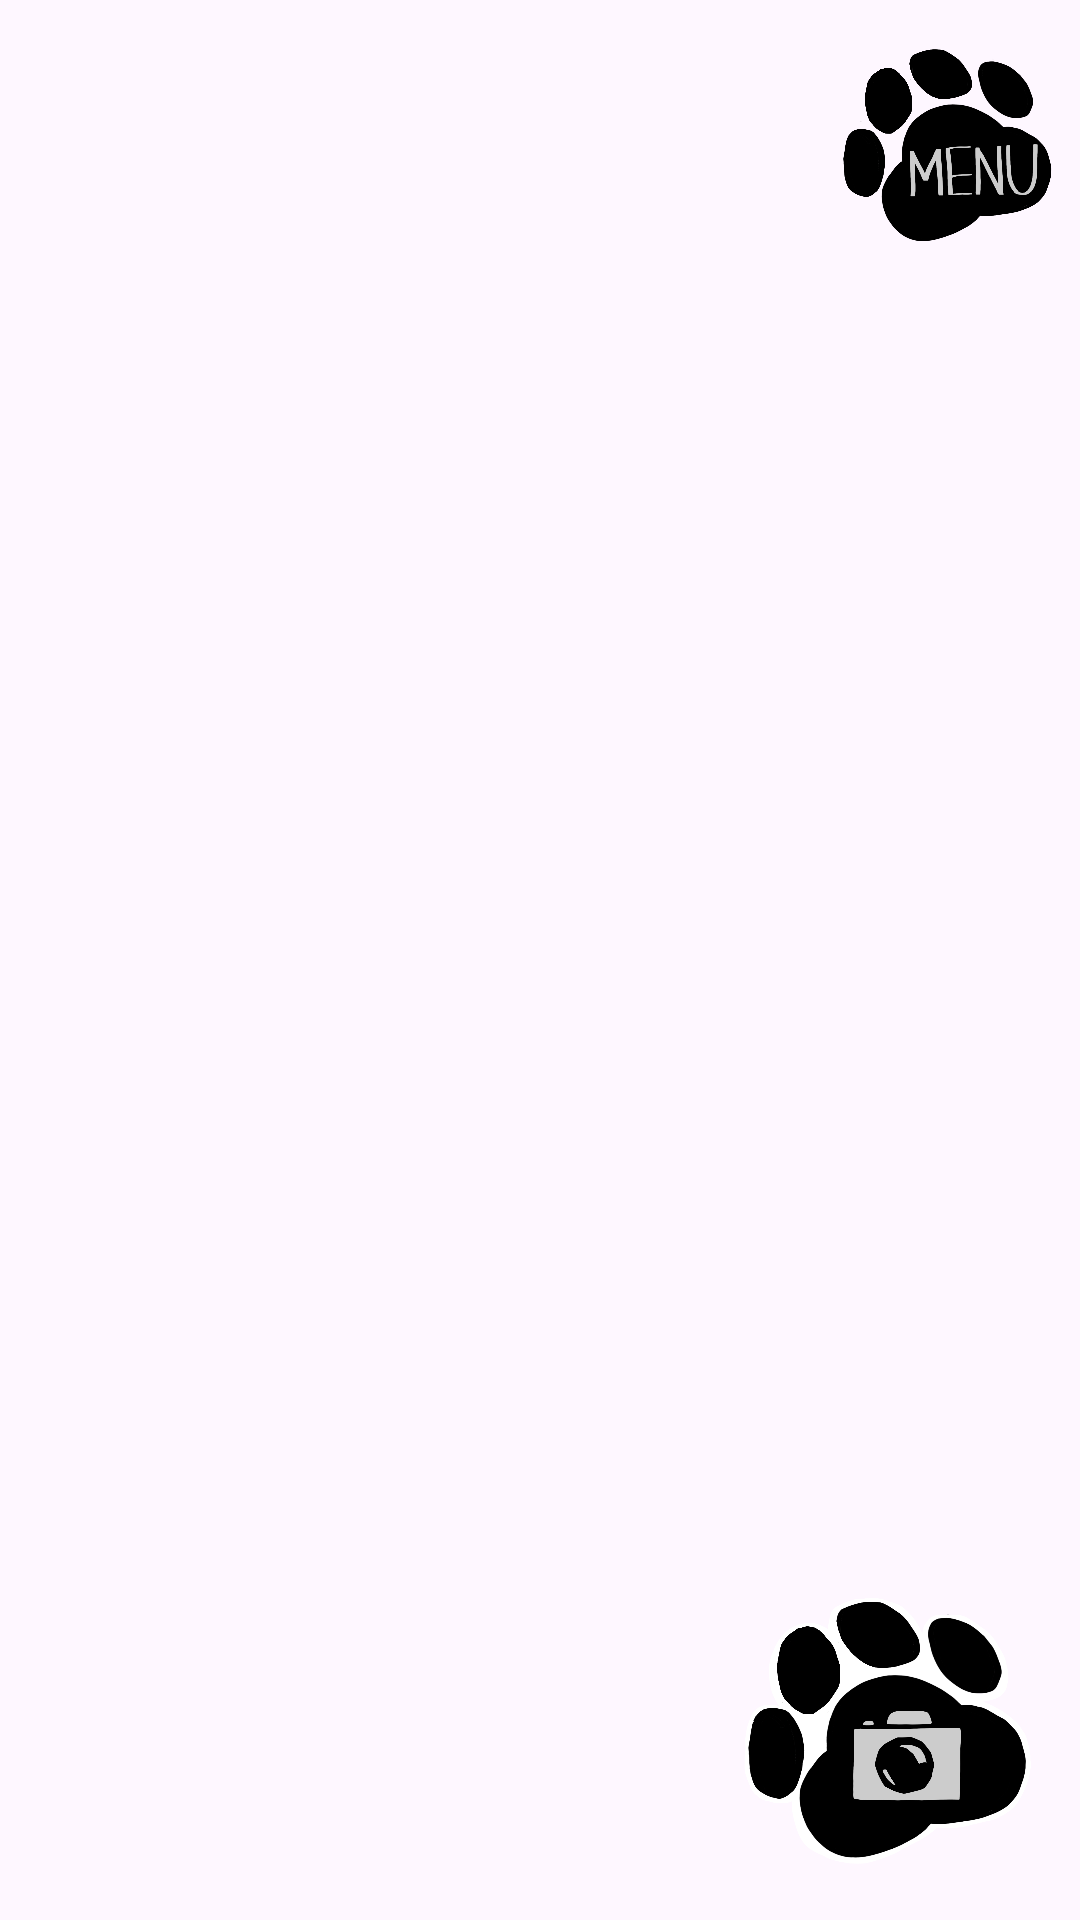

Locate icon controls on the screen. Image size 1080px×1920px, boxes as box(x1, y1, x2, y2).
Add a new photo: box(748, 1602, 1026, 1858)
